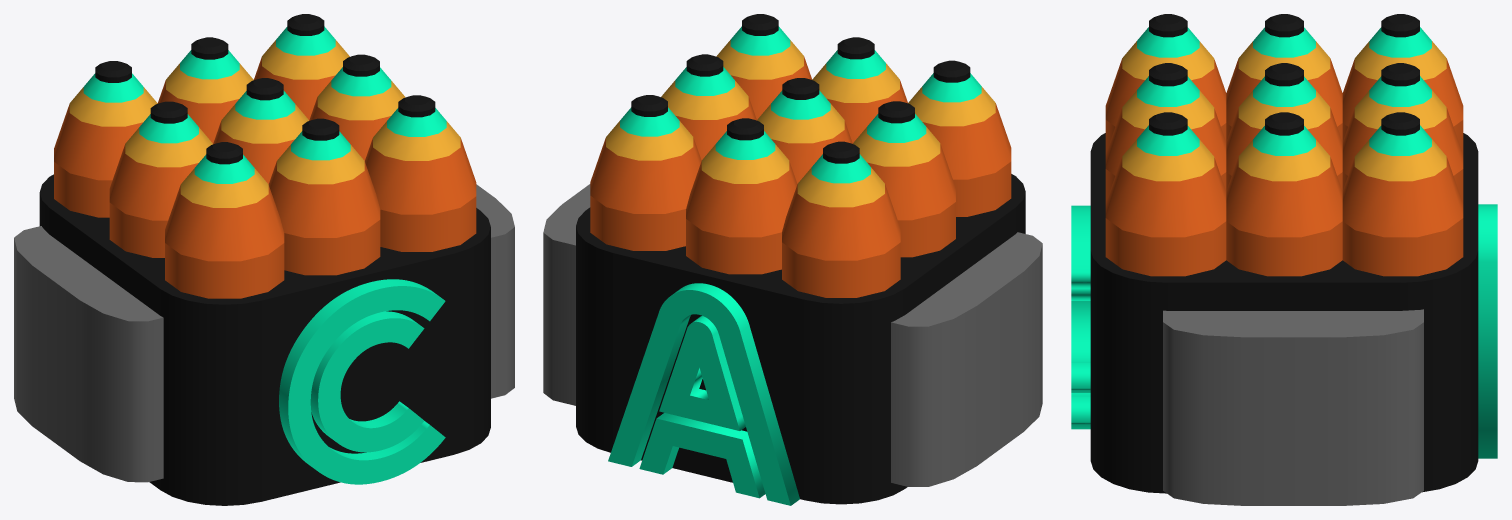
File: Pico_CannonAmmo.glb
3 views of the same model, side by side, from view 1: azimuth 30°, elevation 25°; view 2: azimuth 150°, elevation 25°; view 3: azimuth 270°, elevation 25° (orthographic). The views are drawn at different scales.
Parts seen in each view (by area): view 1: mergedBlocks(Clone); view 2: mergedBlocks(Clone); view 3: mergedBlocks(Clone).
Boxes of the visible parts, left/top/right/bottom form: mergedBlocks(Clone): left=14, top=14, right=514, bottom=505; mergedBlocks(Clone): left=543, top=14, right=1042, bottom=505; mergedBlocks(Clone): left=1071, top=14, right=1497, bottom=505.
Size of the model in its own units: 1.3 by 0.9772 by 1.1.
Materials: 1 (1 with a texture image).
